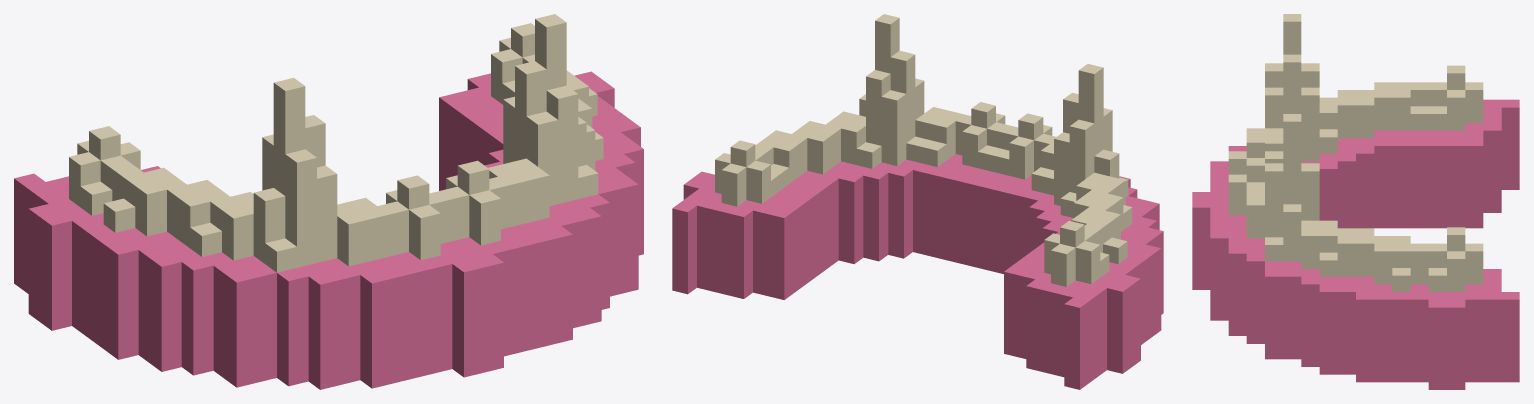
Rendered from vampire_fangs.glb.
3 views of the same model, side by side, from view 1: azimuth 30°, elevation 25°; view 2: azimuth 150°, elevation 25°; view 3: azimuth 270°, elevation 25° (orthographic). The views are drawn at different scales.
Parts seen in each view (by area): view 1: vampire_fangs:compound; view 2: vampire_fangs:compound; view 3: vampire_fangs:compound.
Part boxes in pixels (x1=…): vampire_fangs:compound: x1=14, y1=14, x2=643, y2=389; vampire_fangs:compound: x1=672, y1=14, x2=1163, y2=389; vampire_fangs:compound: x1=1192, y1=14, x2=1519, y2=389.
Size of the model in its own units: 0.056 by 0.026 by 0.036.
